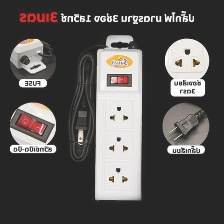three_eye_plug: (92, 44, 147, 204), (165, 37, 208, 80), (9, 35, 51, 77)
